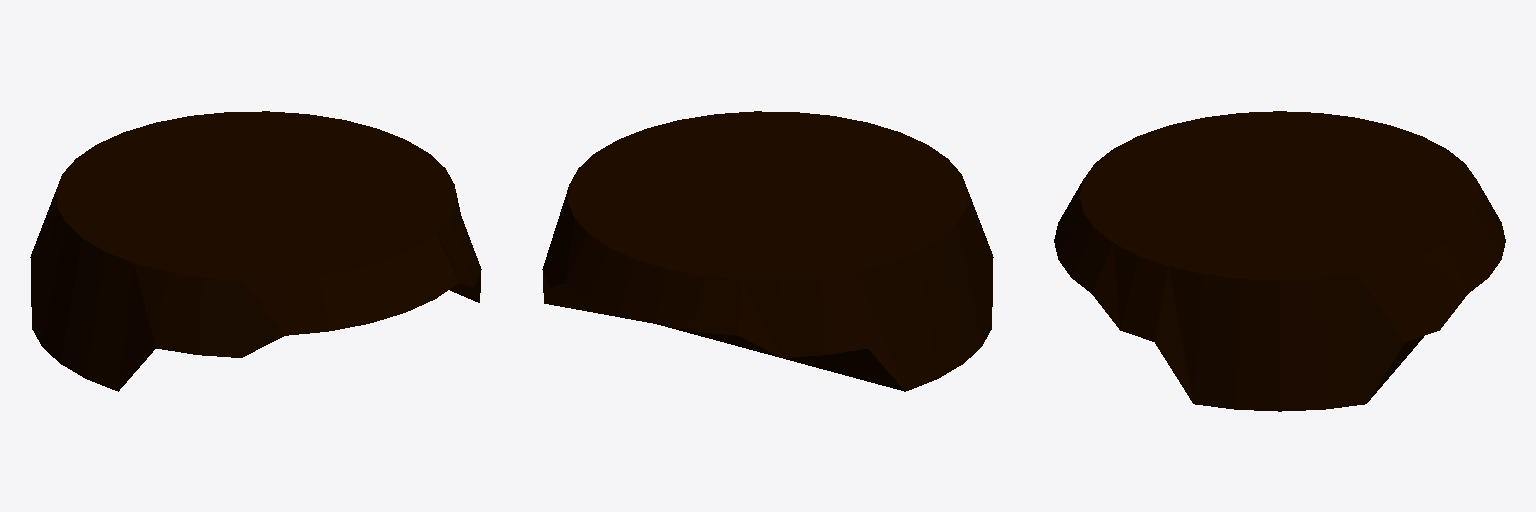
File: crownest.obj
3 views of the same model, side by side, from view 1: azimuth 30°, elevation 25°; view 2: azimuth 150°, elevation 25°; view 3: azimuth 270°, elevation 25° (orthographic).
Parts seen in each view (by area): view 1: Cylinder.003_Cylinder.002; view 2: Cylinder.003_Cylinder.002; view 3: Cylinder.003_Cylinder.002.
Boxes of the visible parts, x1=… form: Cylinder.003_Cylinder.002: x1=30, y1=111, x2=481, y2=391; Cylinder.003_Cylinder.002: x1=542, y1=111, x2=993, y2=391; Cylinder.003_Cylinder.002: x1=1054, y1=111, x2=1505, y2=411.
Size of the model in its own units: 0.7667 by 0.2248 by 0.7667.